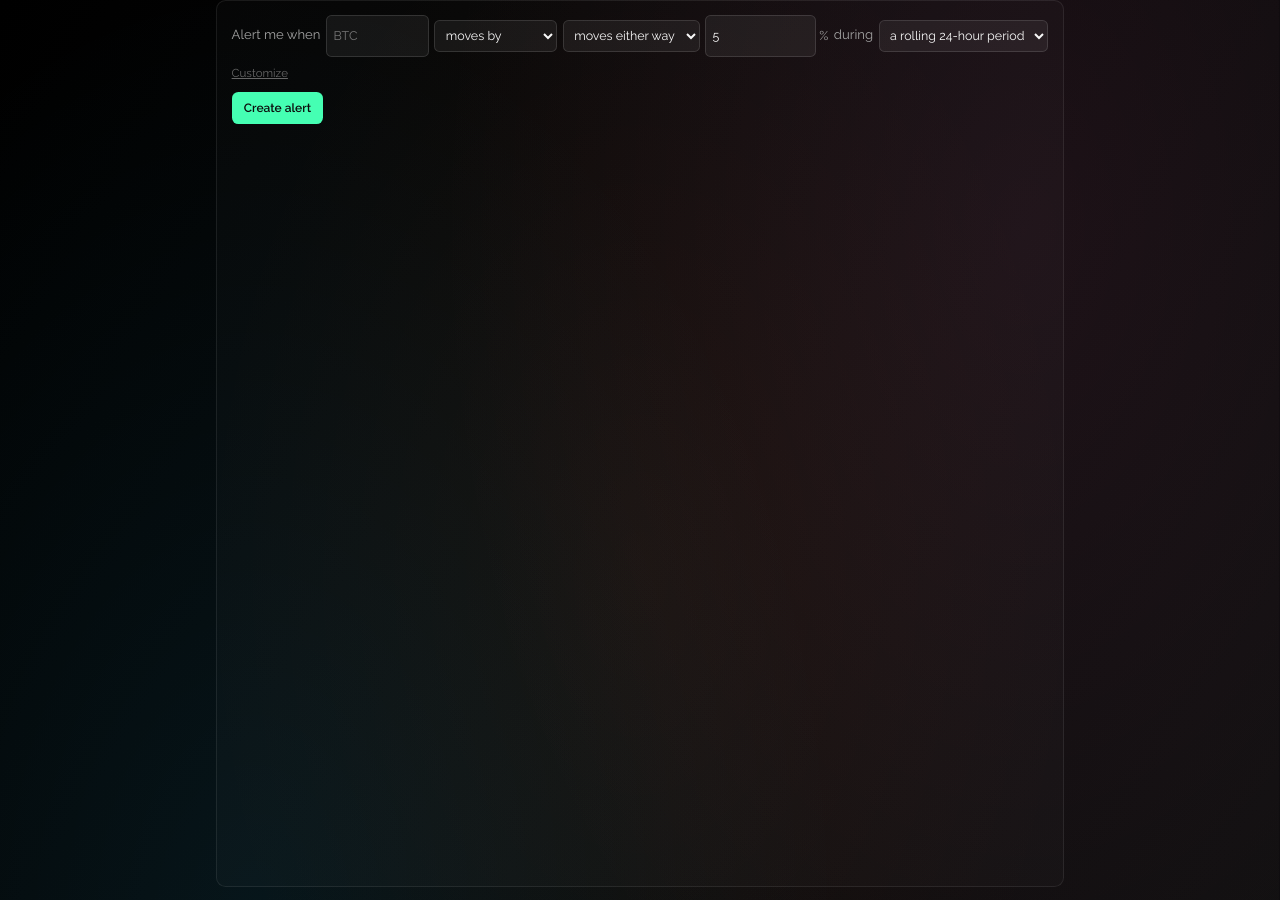
Test case: QuickAlertBuilder › hides the time window for a price target
The image size is (1280, 900).
Select "reaches a price" in the dropdown named "What to watch" at point(496, 36), box left=434, top=20, right=557, bottom=52
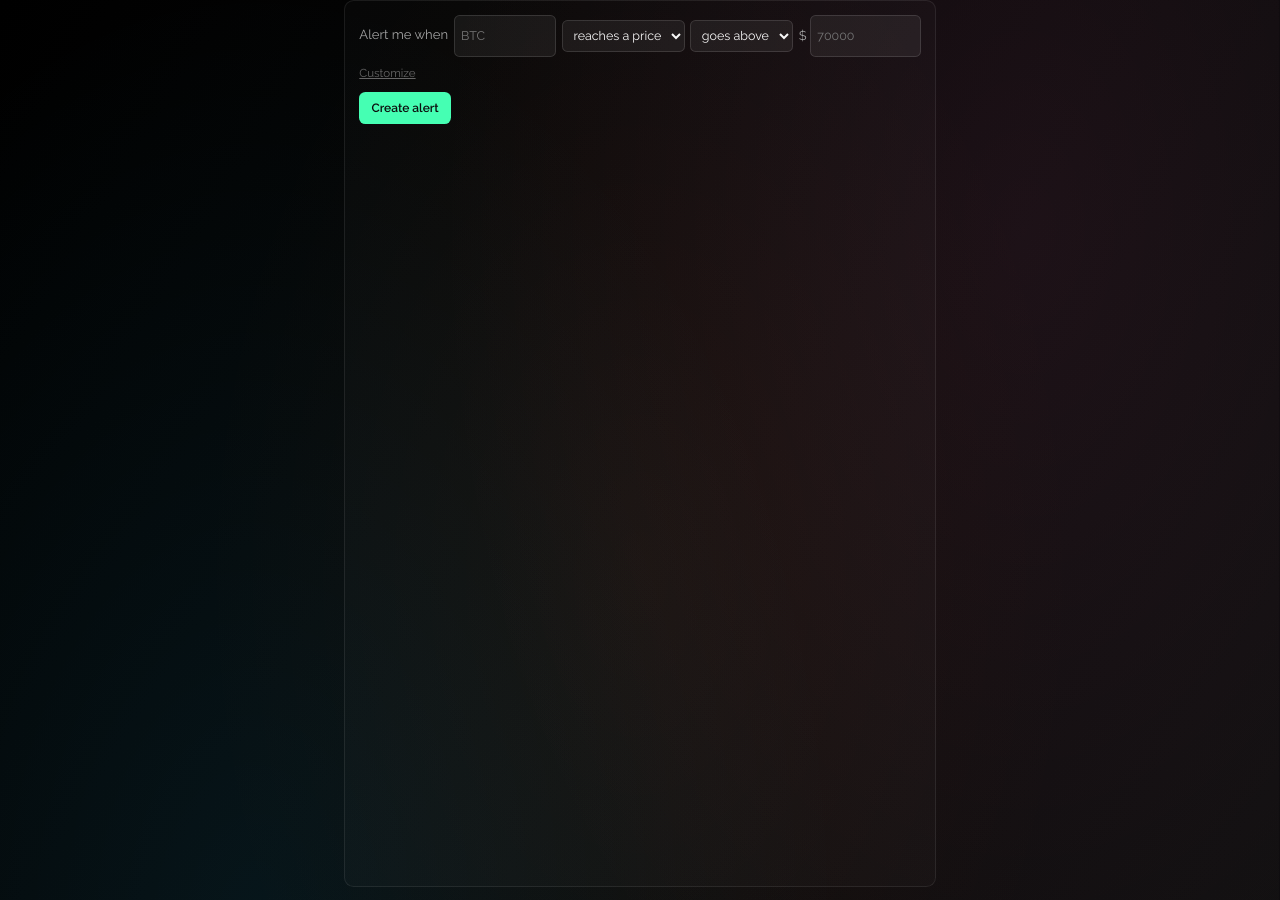
Now the number field named "Price" is shown, box left=810, top=15, right=921, bottom=57
